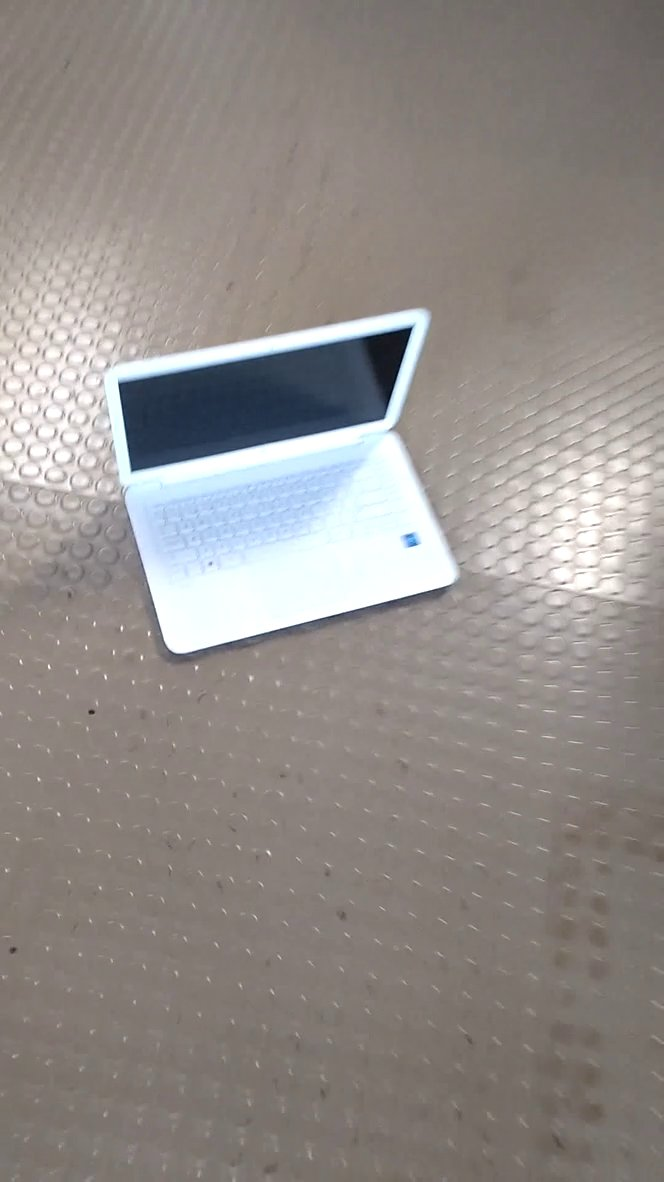laptop: (101, 301, 471, 668)
